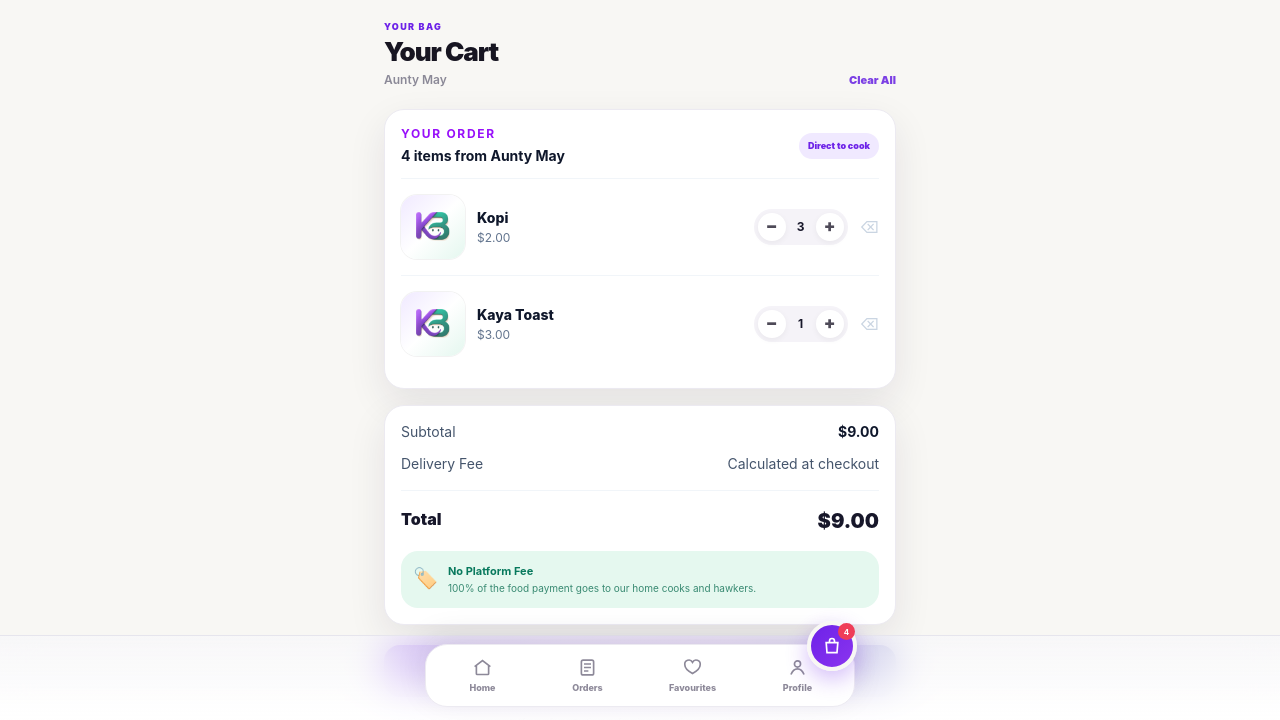
Scenario: CartView remove + clear all › Clear all empties the cart after confirming
This screenshot has width=1280, height=720.
Click the button "Clear All" at (872, 81), box [849,72,896,89]
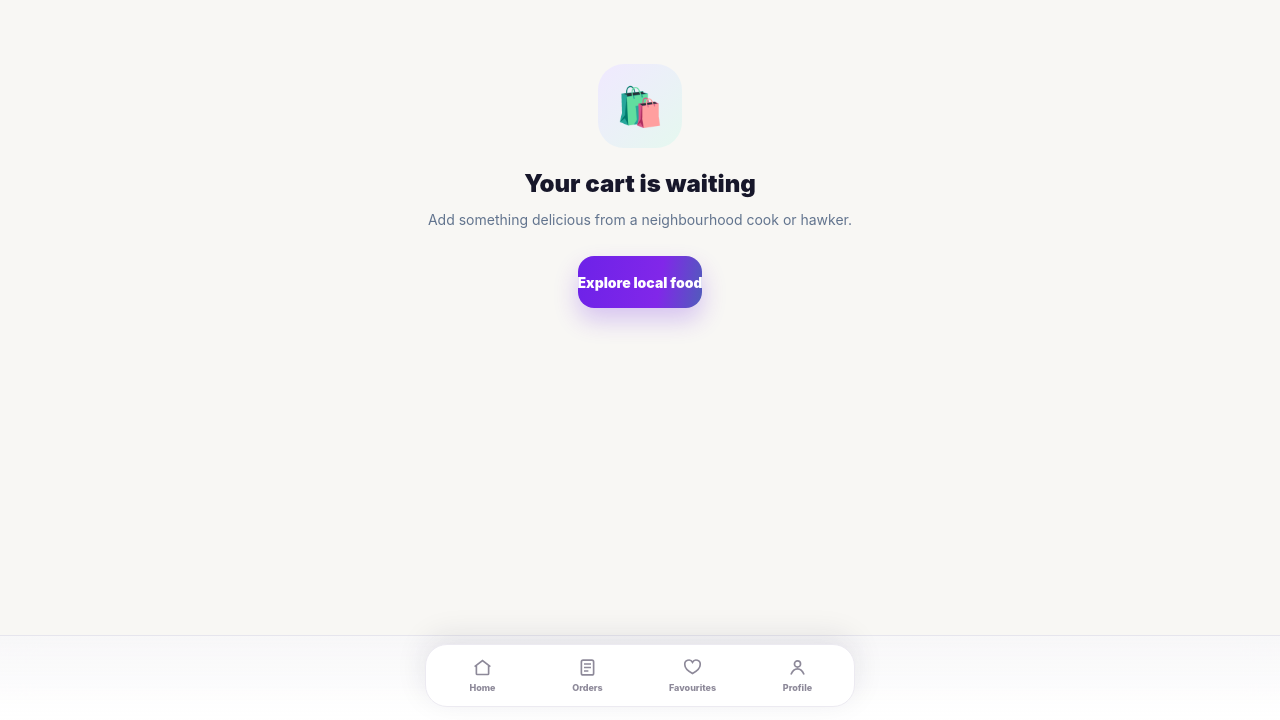
Check: the heading "Your cart is waiting" is shown, box [524,169,756,198]
